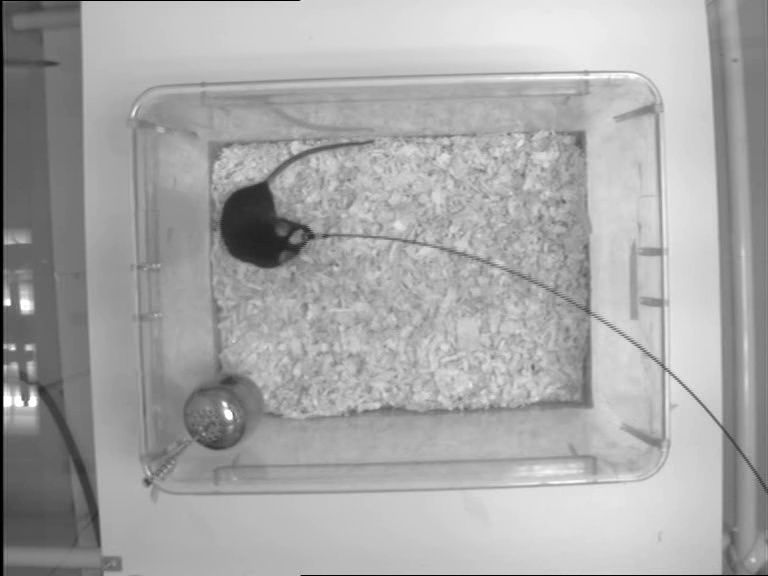mice: (214, 138, 383, 269)
